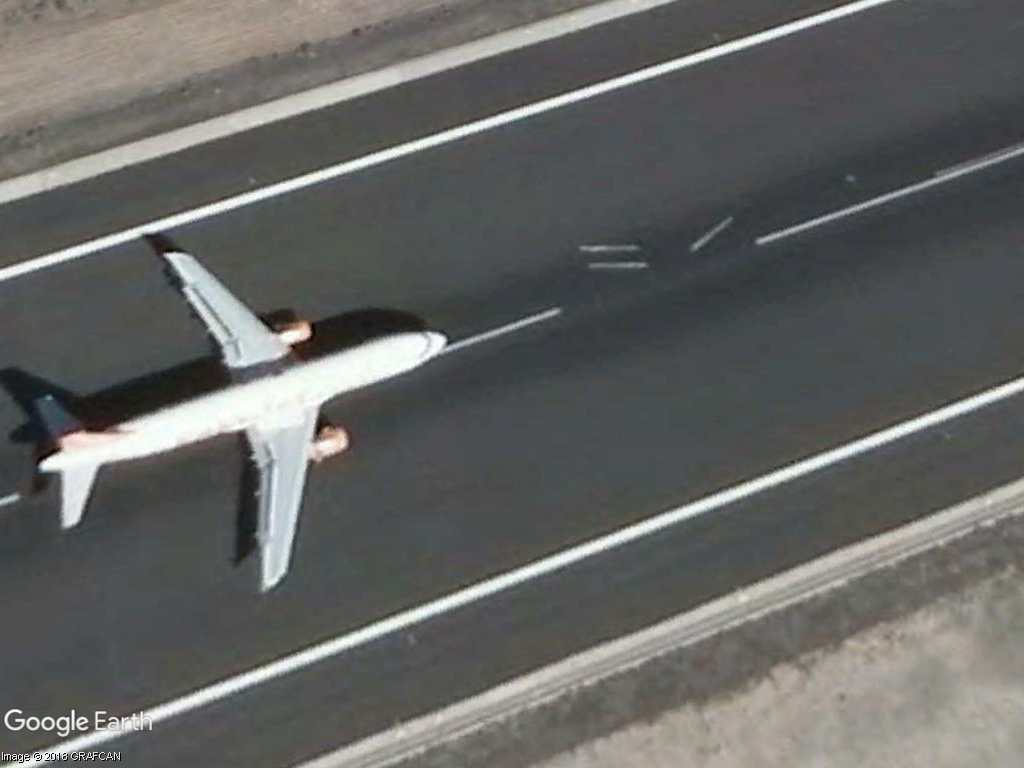airliner: (19, 233, 467, 598)
